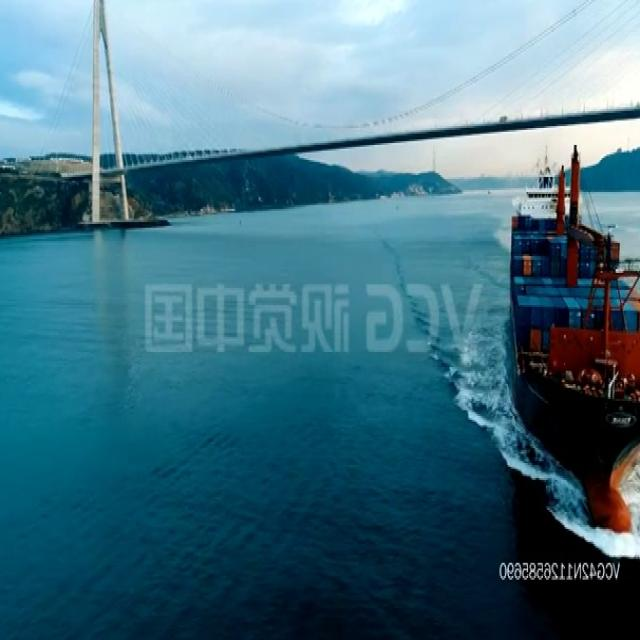cargoship: (506, 139, 640, 533)
